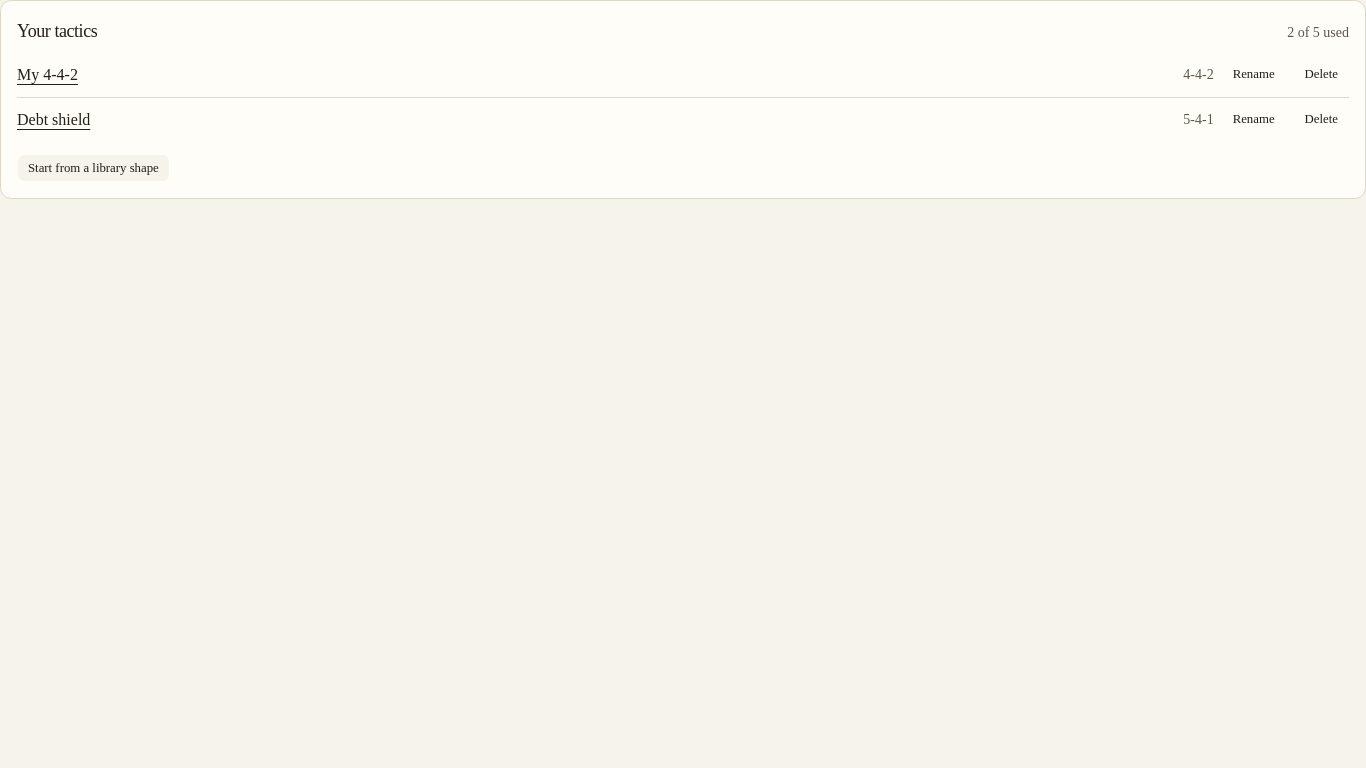
the tactic list (AC-2, AC-10) › asks before a delete, and says what a delete does not touch
Click the button "Delete" in the row of "My 4-4-2". click: x=1321, y=75
box: top-left (1294, 61), bottom-right (1349, 89)
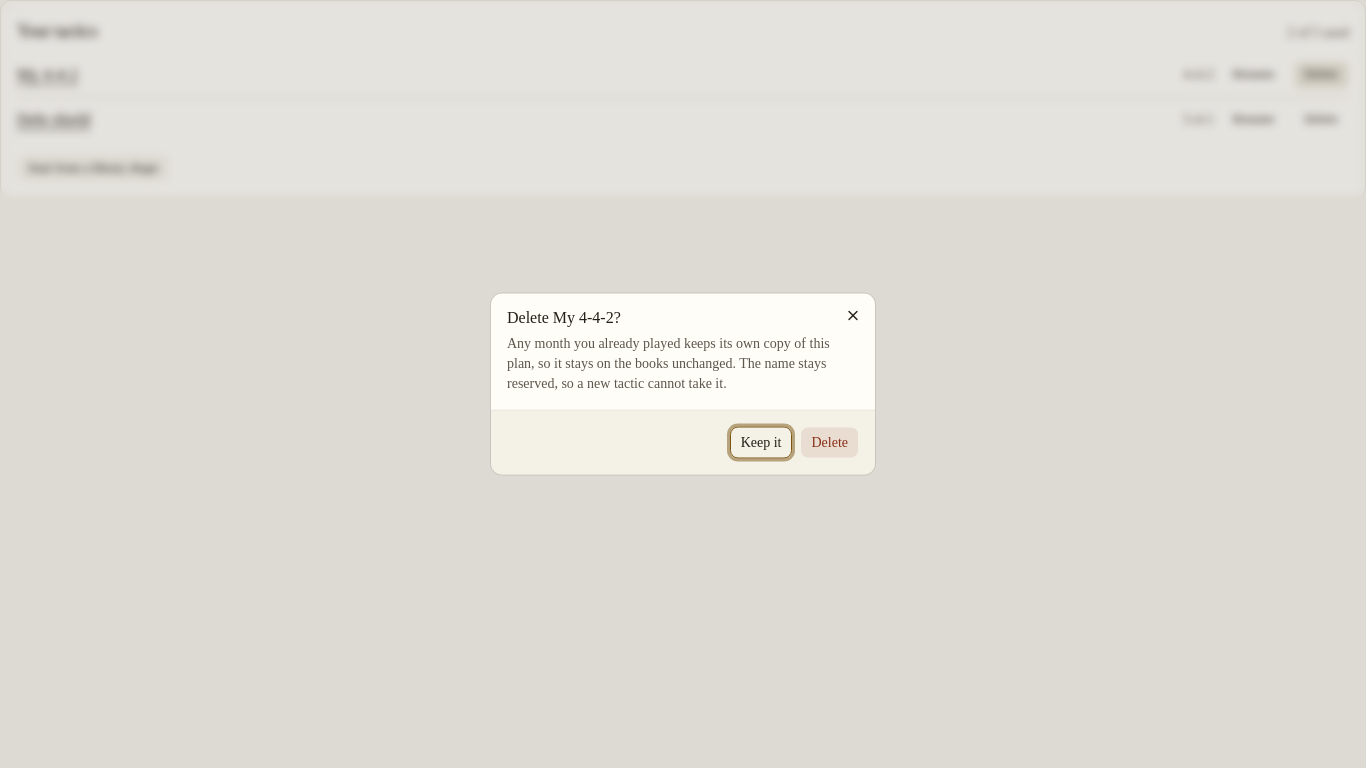
Now the heading "Delete My 4-4-2?" is shown, box top-left (507, 308), bottom-right (621, 326)
Now the text "The name stays reserved" is shown, box top-left (507, 336), bottom-right (830, 390)
Click the button "Keep it". click: x=761, y=442
box: top-left (730, 426), bottom-right (792, 458)
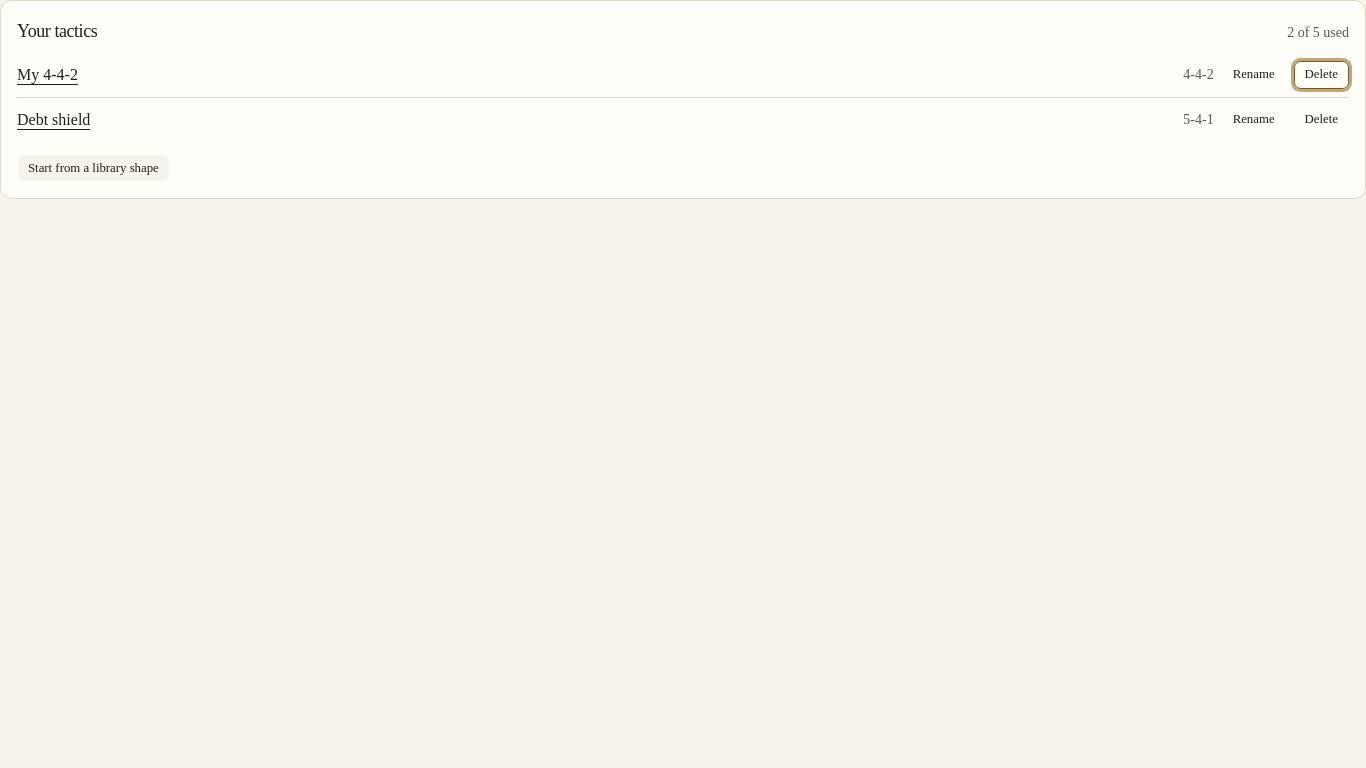
Now the dialog is gone
